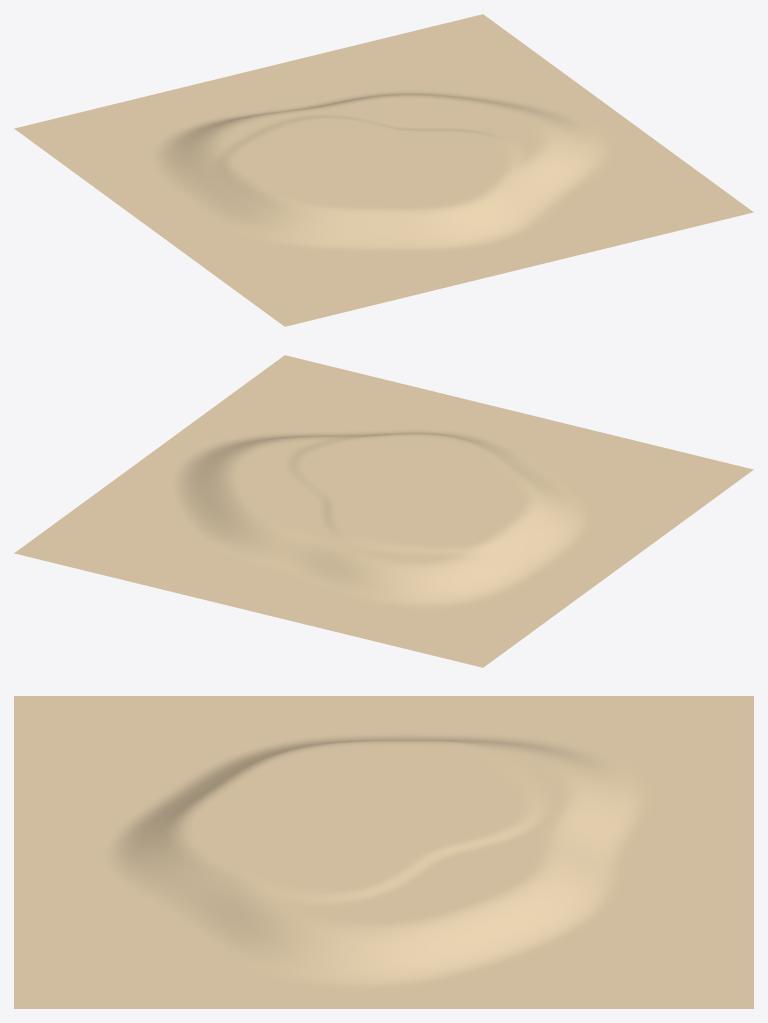
Rendered from island_terrain.obj.
3 views of the same model, one above another, from view 1: azimuth 30°, elevation 25°; view 2: azimuth 150°, elevation 25°; view 3: azimuth 270°, elevation 25° (orthographic). The views are drawn at different scales.
Parts seen in each view (by area): view 1: island_terrain; view 2: island_terrain; view 3: island_terrain.
Part boxes in pixels (x1,y1,x2,y2): island_terrain: (14, 14, 753, 326); island_terrain: (14, 355, 753, 667); island_terrain: (14, 696, 753, 1008).
Bounding box in the file's own units: 20.8 × 0.77 × 20.8.
